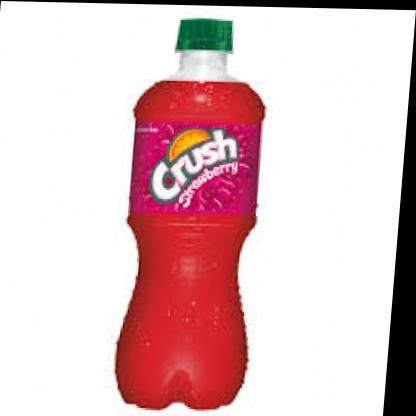trash: (116, 19, 263, 408)
